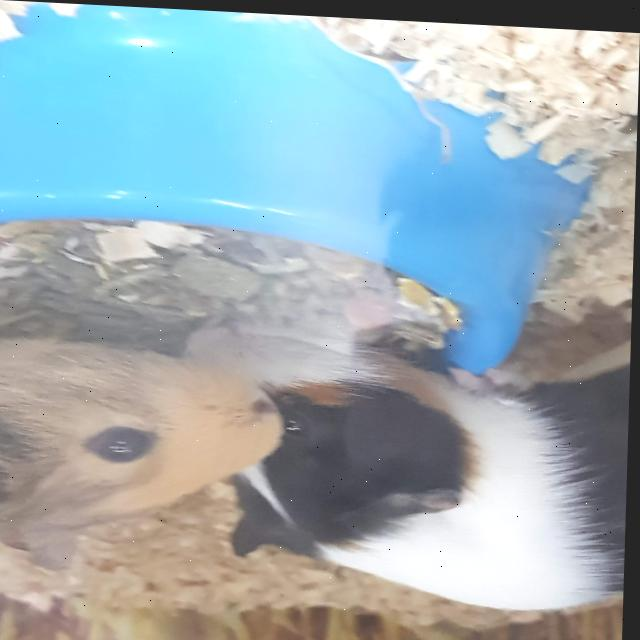guinea pig: (181, 298, 633, 617), (0, 312, 286, 581)
